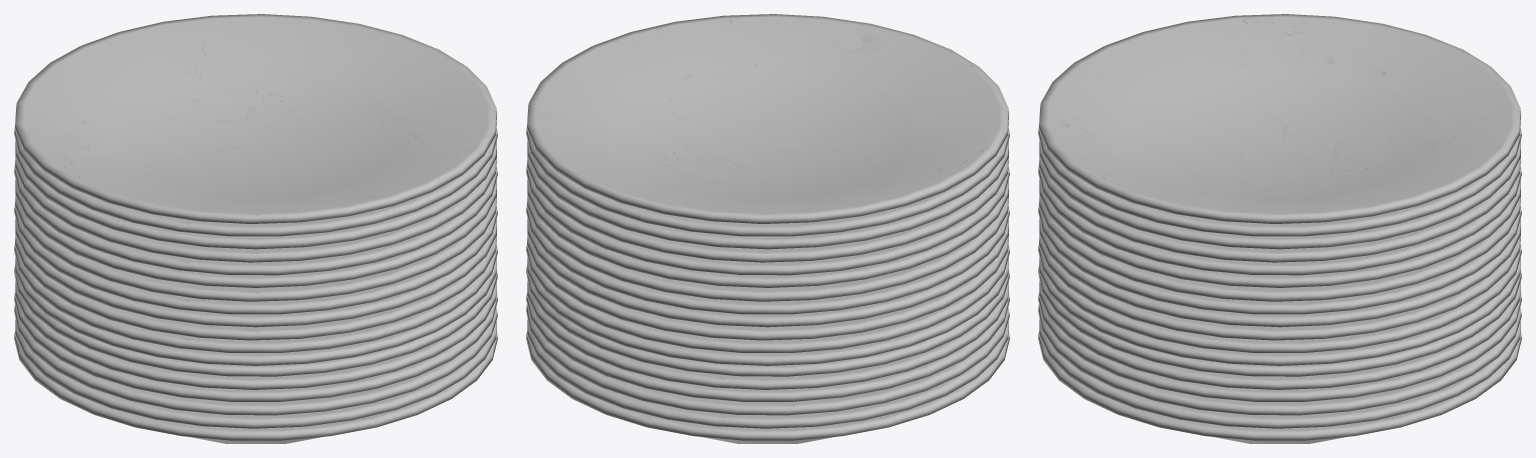
File: SM_Dishes_A3.fbx
3 renders of one model, left to right at view 1: azimuth 30°, elevation 25°; view 2: azimuth 150°, elevation 25°; view 3: azimuth 270°, elevation 25°, orthographic.
Parts seen in each view (by area): view 1: SM_Dishes_A3; view 2: SM_Dishes_A3; view 3: SM_Dishes_A3.
Part boxes in pixels (box(x1,y1,x2,y2)): SM_Dishes_A3: box(14, 14, 497, 443); SM_Dishes_A3: box(526, 14, 1009, 443); SM_Dishes_A3: box(1038, 14, 1521, 443).
Bounding box in the file's own units: 24.11 × 24.11 × 14.79.
Materials: 1 (1 with a texture image).
